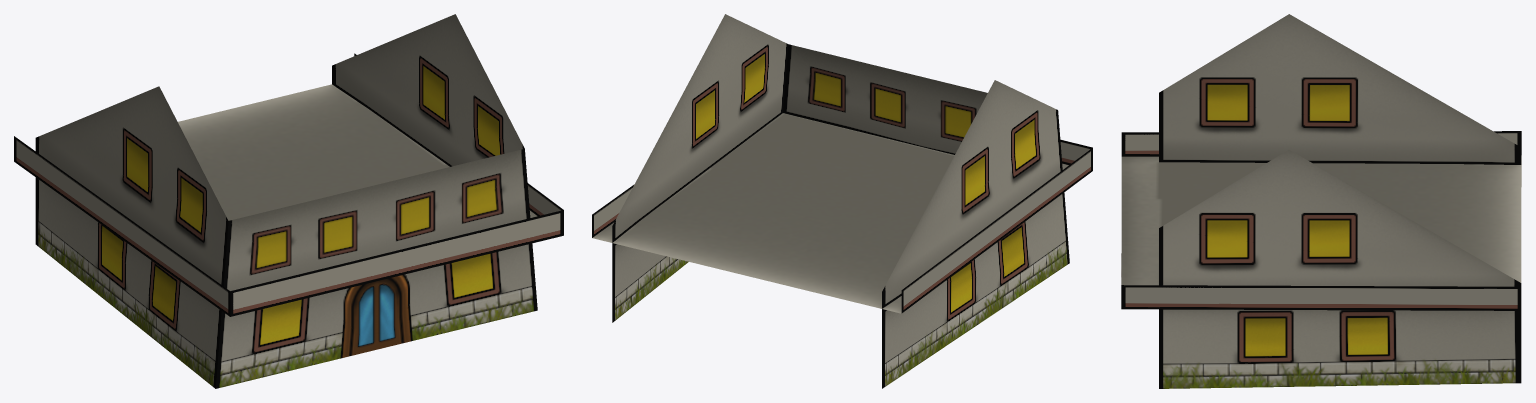
Rendered from house_01.FBX.
3 renders of one model, left to right at view 1: azimuth 30°, elevation 25°; view 2: azimuth 150°, elevation 25°; view 3: azimuth 270°, elevation 25°, orthographic. The views are drawn at different scales.
Visible parts, largest first — view 1: house_01; view 2: house_01; view 3: house_01.
Part boxes in pixels (box(x1,y1,x2,y2)): house_01: box(14, 14, 563, 388); house_01: box(592, 14, 1092, 388); house_01: box(1121, 14, 1521, 388).
Size of the model in its own units: 1566 by 1095 by 1701.
